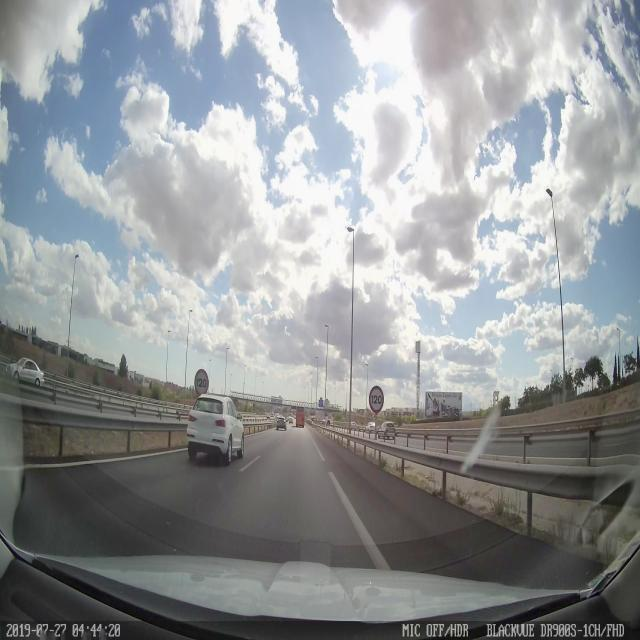car: (186, 393, 245, 464), (11, 358, 46, 386), (276, 416, 287, 430)
